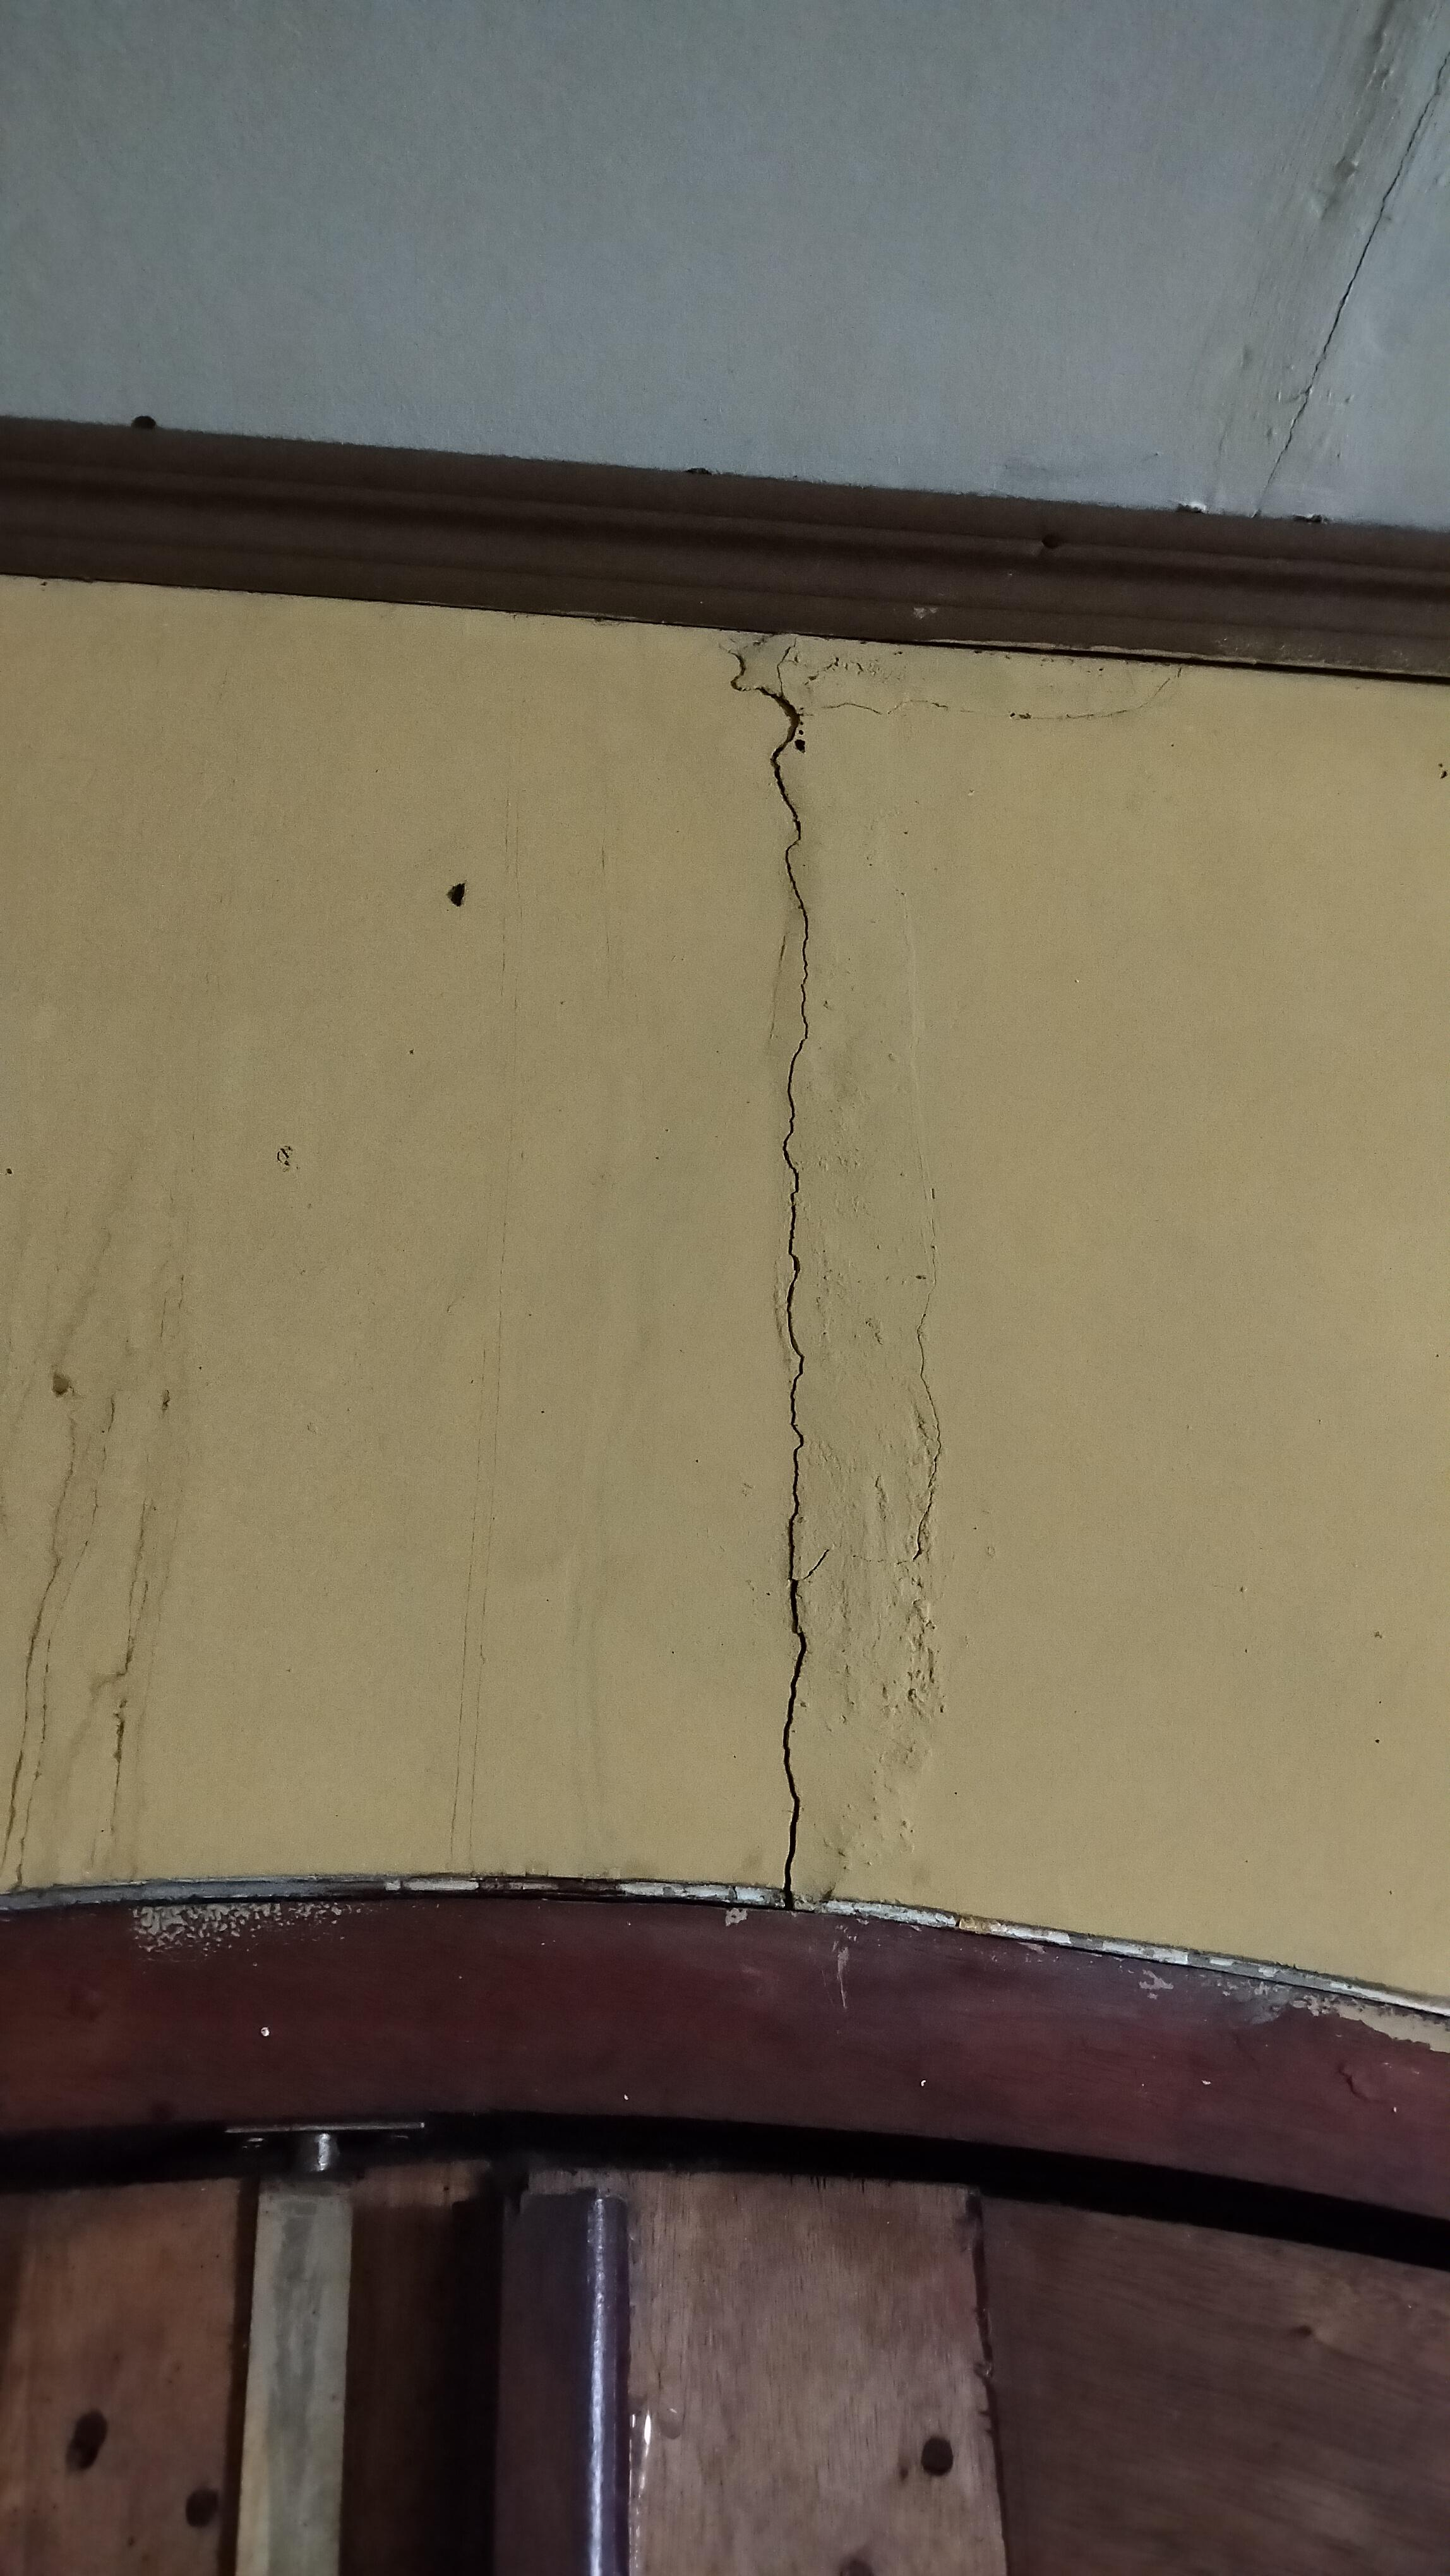Crack: (676, 619, 883, 1944), (901, 1166, 963, 1730)
